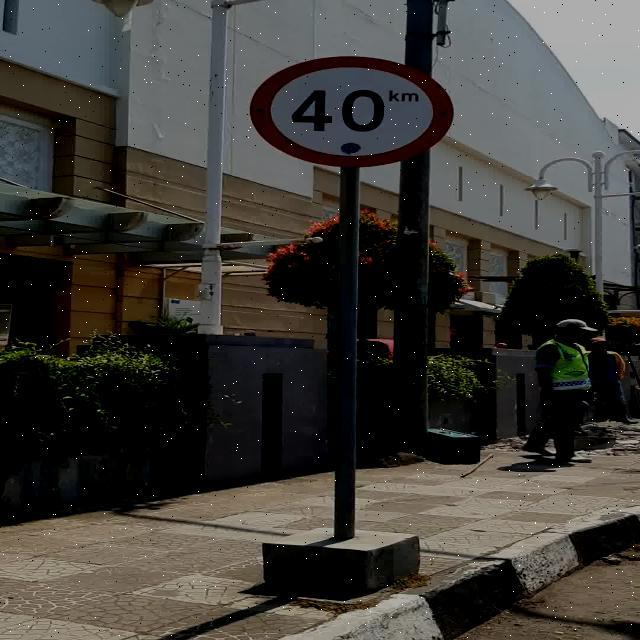Kecepatan Maks. 40 km: (246, 54, 456, 168)
